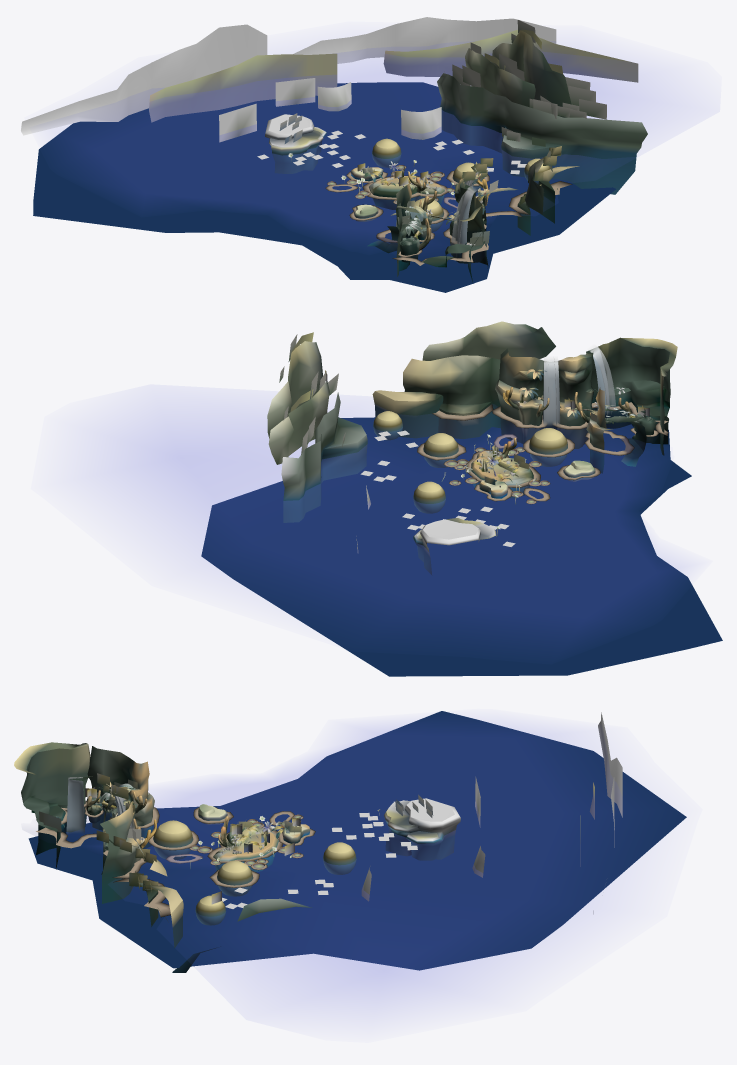
The model's file is 05Crossing.gltf.
3 views of the same model, one above another, from view 1: azimuth 30°, elevation 25°; view 2: azimuth 150°, elevation 25°; view 3: azimuth 270°, elevation 25° (orthographic). The views are drawn at different scales.
Parts seen in each view (by area): view 1: stg020_o22_Mesh_16, stg020_w22_Mesh_0, stg020_p21_Mesh_52, stg020_o22_Mesh_6, stg020_p22_Mesh_24, stg020_p21_Mesh_27, stg020_ripple_k_21_Mesh_10, stg020_o22_Mesh_11, stg020_falls_w_22_Mesh_0, stg020_p21_Mesh_44, stg020_p22_Mesh_4, stg020_o22_Mesh_2 (+1 smaller); view 2: stg020_o22_Mesh_16, stg020_w22_Mesh_0, stg020_o22_Mesh_6, stg020_ripple_k_21_Mesh_10, stg020_o22_Mesh_11, stg020_falls_w_22_Mesh_0, stg020_p22_Mesh_24, stg020_o22_Mesh_8, stg020_p21_Mesh_44, stg020_p22_Mesh_4, stg020_o22_Mesh_2; view 3: stg020_o22_Mesh_16, stg020_w22_Mesh_0, stg020_o22_Mesh_6, stg020_ripple_k_21_Mesh_10, stg020_o22_Mesh_11, stg020_p22_Mesh_24, stg020_p21_Mesh_52, stg020_falls_w_22_Mesh_0, stg020_p21_Mesh_44, stg020_o22_Mesh_8, stg020_p22_Mesh_20, stg020_p21_Mesh_27 (+2 smaller).
Part boxes in pixels (bbox=[...]): stg020_o22_Mesh_16: bbox=[33, 82, 615, 292]; stg020_w22_Mesh_0: bbox=[64, 52, 676, 256]; stg020_p21_Mesh_52: bbox=[21, 17, 638, 135]; stg020_o22_Mesh_6: bbox=[265, 30, 647, 282]; stg020_p22_Mesh_24: bbox=[279, 20, 606, 247]; stg020_p21_Mesh_27: bbox=[219, 78, 441, 142]; stg020_ripple_k_21_Mesh_10: bbox=[325, 165, 572, 265]; stg020_o22_Mesh_11: bbox=[372, 143, 550, 232]; stg020_falls_w_22_Mesh_0: bbox=[451, 171, 479, 244]; stg020_p21_Mesh_44: bbox=[257, 130, 526, 174]; stg020_p22_Mesh_4: bbox=[364, 171, 487, 244]; stg020_o22_Mesh_2: bbox=[408, 172, 490, 250]; stg020_o22_Mesh_16: bbox=[201, 337, 722, 676]; stg020_w22_Mesh_0: bbox=[97, 404, 679, 637]; stg020_o22_Mesh_6: bbox=[267, 321, 670, 575]; stg020_ripple_k_21_Mesh_10: bbox=[417, 402, 668, 504]; stg020_o22_Mesh_11: bbox=[373, 416, 567, 513]; stg020_falls_w_22_Mesh_0: bbox=[542, 345, 615, 426]; stg020_p22_Mesh_24: bbox=[279, 334, 597, 484]; stg020_o22_Mesh_8: bbox=[377, 411, 562, 492]; stg020_p21_Mesh_44: bbox=[360, 430, 515, 546]; stg020_p22_Mesh_4: bbox=[472, 369, 649, 482]; stg020_o22_Mesh_2: bbox=[501, 387, 634, 458]; stg020_o22_Mesh_16: bbox=[14, 711, 686, 970]; stg020_w22_Mesh_0: bbox=[62, 724, 621, 1010]; stg020_o22_Mesh_6: bbox=[21, 744, 460, 972]; stg020_ripple_k_21_Mesh_10: bbox=[36, 801, 315, 917]; stg020_o22_Mesh_11: bbox=[153, 826, 356, 925]; stg020_p22_Mesh_24: bbox=[39, 773, 433, 891]; stg020_p21_Mesh_52: bbox=[580, 712, 622, 914]; stg020_falls_w_22_Mesh_0: bbox=[66, 777, 134, 833]; stg020_p21_Mesh_44: bbox=[222, 801, 417, 908]; stg020_o22_Mesh_8: bbox=[158, 820, 351, 905]; stg020_p22_Mesh_20: bbox=[85, 787, 300, 904]; stg020_p21_Mesh_27: bbox=[361, 776, 485, 901].
Size of the model in its own units: 894 by 169 by 736.
